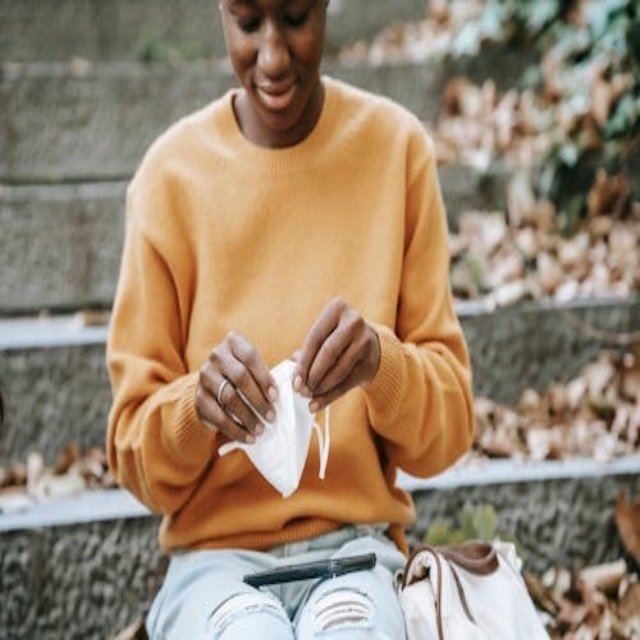Sin_gafas: (221, 2, 316, 35)
Sin_guantes: (291, 293, 382, 412), (192, 321, 275, 446)
Sin_mascara: (242, 69, 307, 125)
